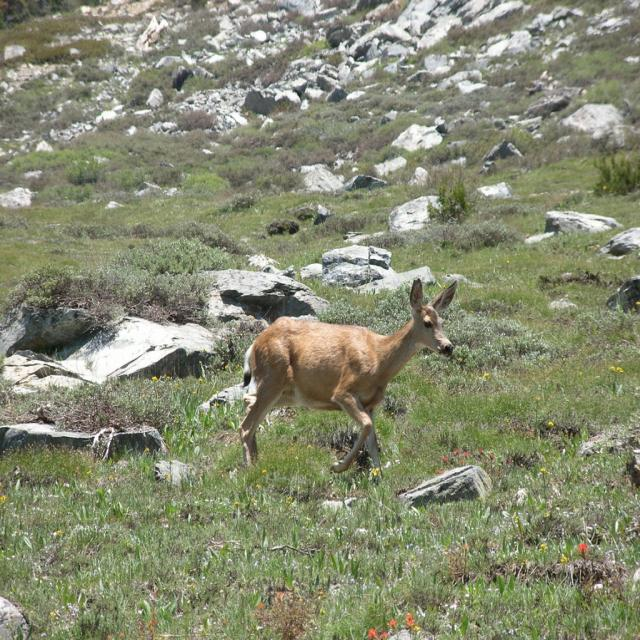Deer: (238, 279, 458, 485)
